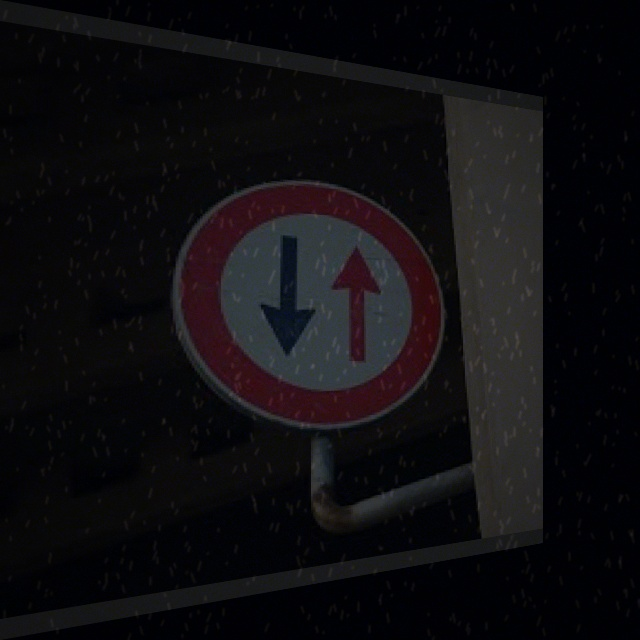Mandatory_Two_Way_Traffic: (174, 170, 456, 432)
